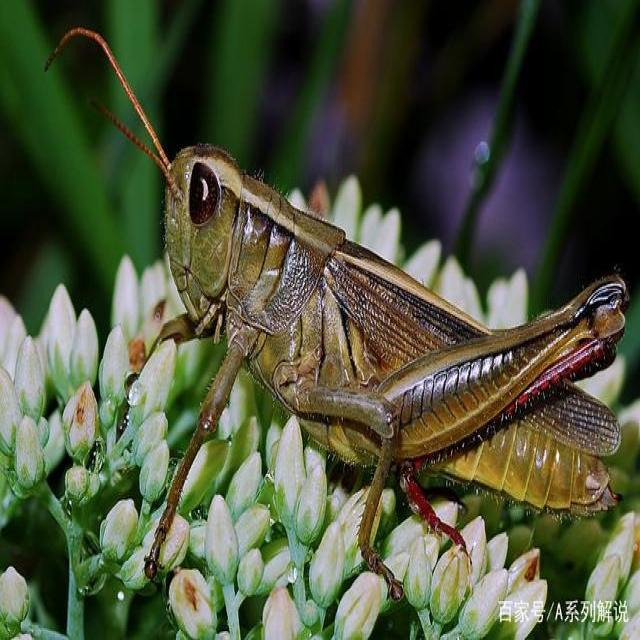ZhaMeng: (103, 98, 624, 532)
